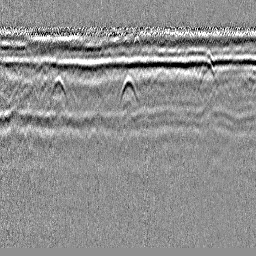cavity: (118, 74, 140, 103)
